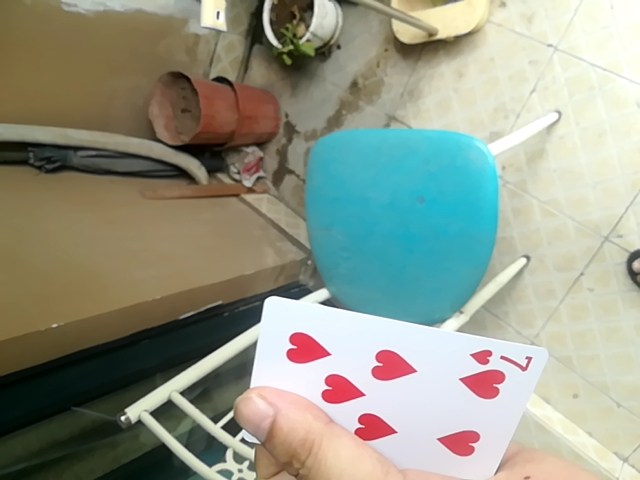hx 7: (245, 291, 546, 479)
